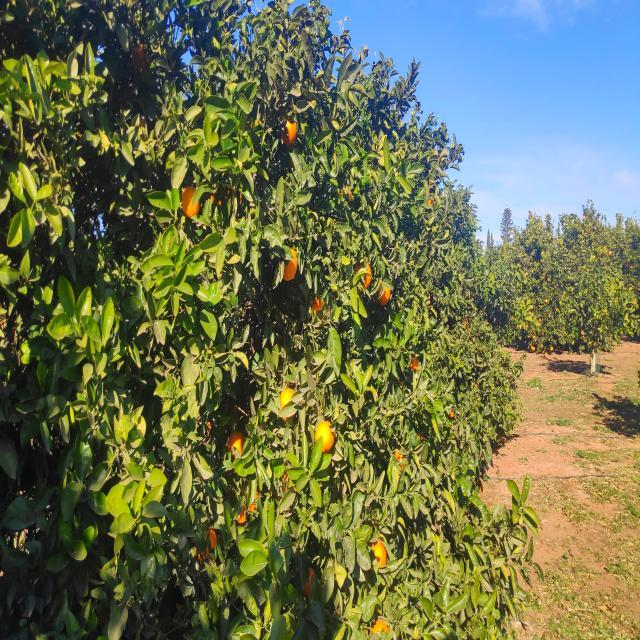Jeruk Sudah Matang: (280, 388, 298, 422), (226, 432, 248, 459), (181, 186, 200, 217), (280, 248, 297, 282), (316, 422, 334, 452), (374, 543, 387, 569), (379, 280, 391, 306), (286, 117, 298, 141), (362, 262, 372, 289), (237, 504, 249, 524), (312, 295, 325, 312), (373, 620, 388, 634), (206, 530, 216, 550)
